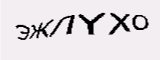Б: (77, 22, 90, 44)
Г: (35, 24, 54, 49)
М: (86, 24, 108, 45)
С: (107, 25, 127, 45)
Ш: (54, 22, 78, 46)
